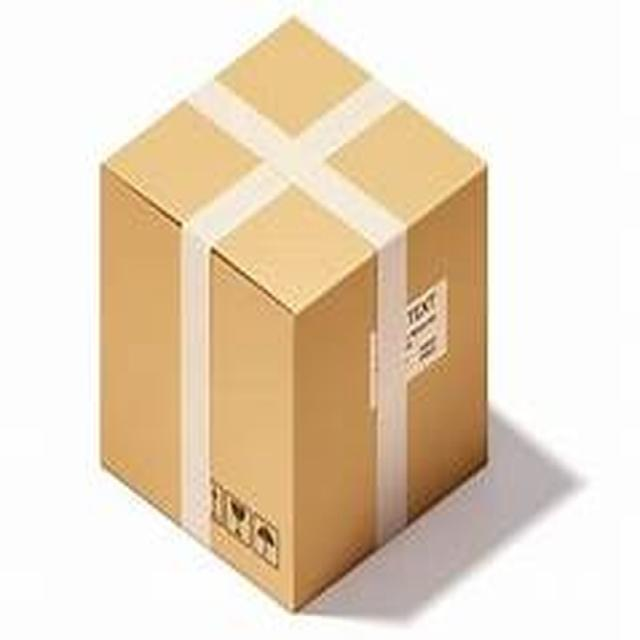box: (70, 4, 516, 598)
